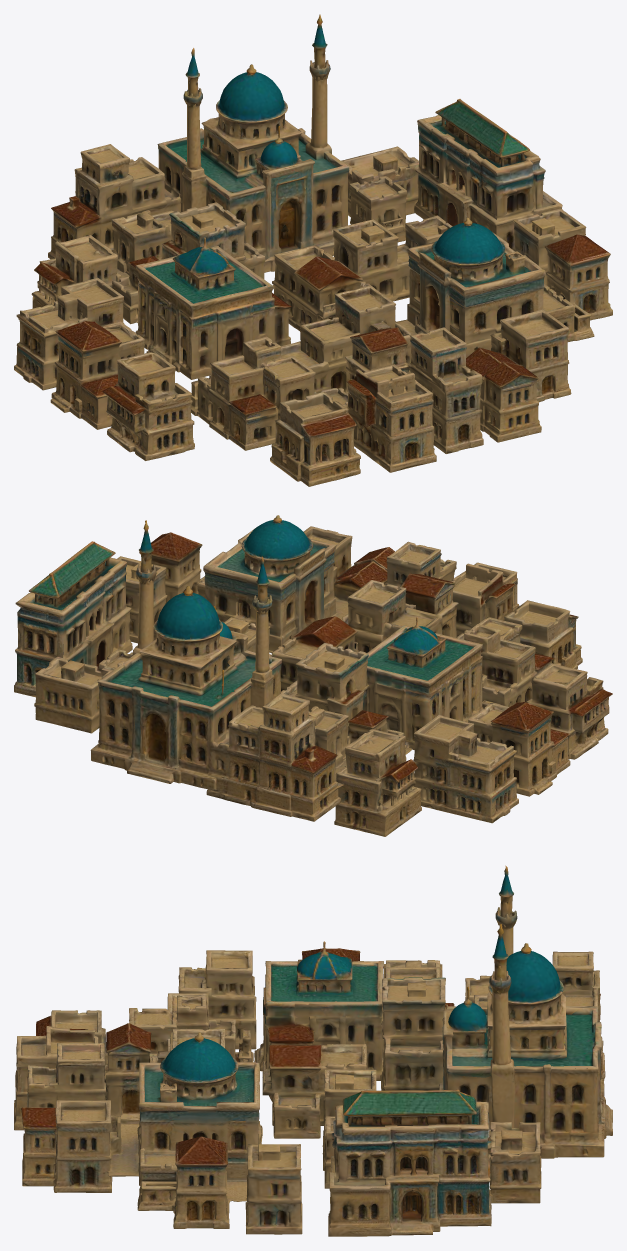
Rendered from Enlightenment Town (Middle Eastern).fbx.
The picture shows the model from 3 angles, top to bottom: view 1: azimuth 30°, elevation 25°; view 2: azimuth 150°, elevation 25°; view 3: azimuth 270°, elevation 25°; orthographic projection. The views are drawn at different scales.
Visible parts, largest first — view 1: tripo_node_5821e158; view 2: tripo_node_5821e158; view 3: tripo_node_5821e158.
Part boxes in pixels (x1,y1,x2,y2): tripo_node_5821e158: (14, 14, 612, 486); tripo_node_5821e158: (14, 515, 612, 836); tripo_node_5821e158: (14, 865, 612, 1236).
Bounding box in the file's own units: 1 × 0.4856 × 0.9784.
